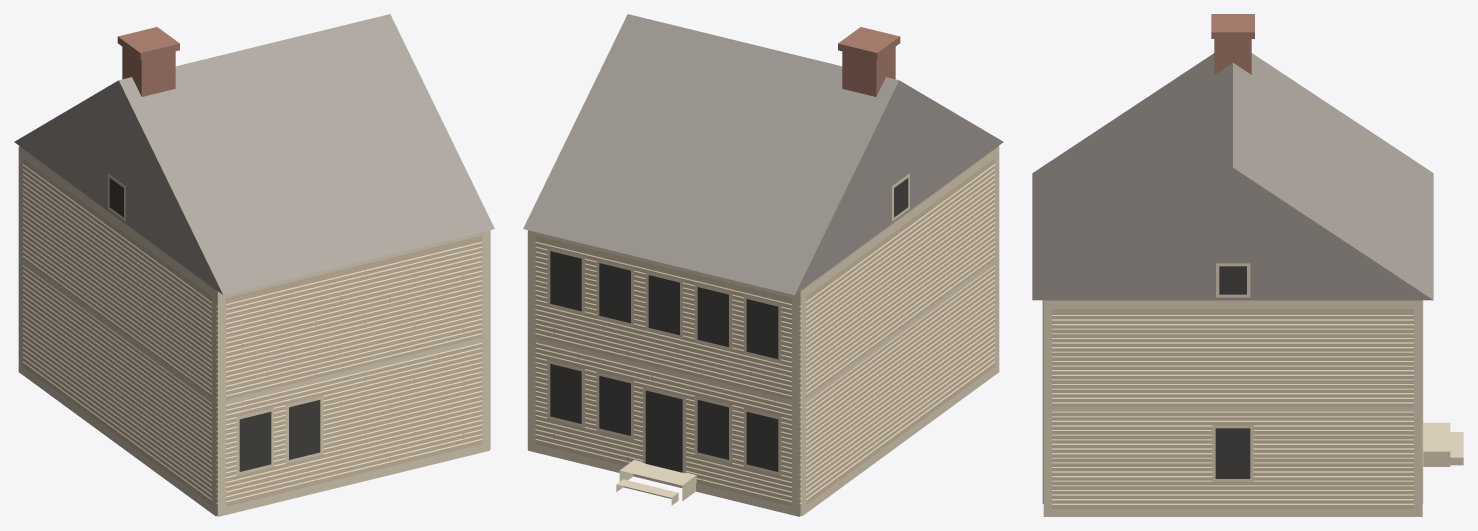
The model's file is recon_1835_south_d7_035__inferred_1835.glb.
3 views of the same model, side by side, from view 1: azimuth 30°, elevation 25°; view 2: azimuth 150°, elevation 25°; view 3: azimuth 270°, elevation 25° (orthographic). The views are drawn at different scales.
Parts seen in each view (by area): view 1: recon_1835_south_d7_035__inferred_1835; view 2: recon_1835_south_d7_035__inferred_1835; view 3: recon_1835_south_d7_035__inferred_1835.
Boxes of the visible parts, box(x1,y1,x2,y2) form: recon_1835_south_d7_035__inferred_1835: box(14, 14, 494, 516); recon_1835_south_d7_035__inferred_1835: box(523, 14, 1003, 516); recon_1835_south_d7_035__inferred_1835: box(1032, 14, 1463, 516).
Bounding box in the file's own units: 6.84 × 9.41 × 9.67.
